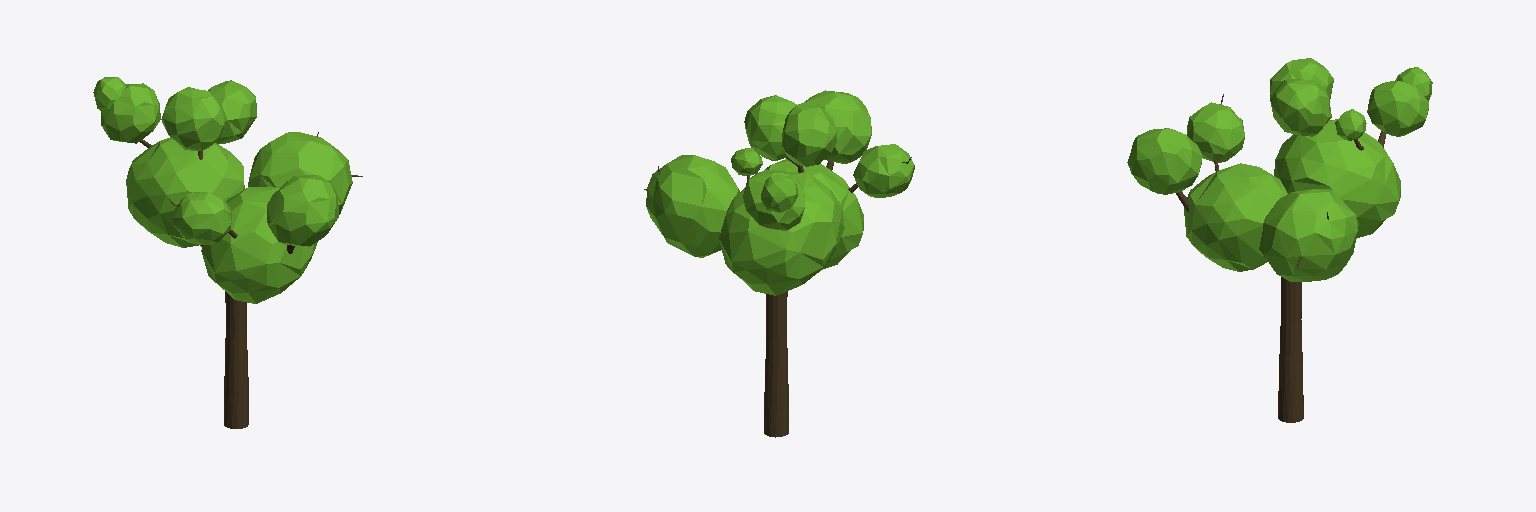
3 views of the same model, side by side, from view 1: azimuth 30°, elevation 25°; view 2: azimuth 150°, elevation 25°; view 3: azimuth 270°, elevation 25° (orthographic).
Parts seen in each view (by area): view 1: Sphere.002_Sphere.005, Cylinder; view 2: Sphere.002_Sphere.005, Cylinder; view 3: Sphere.002_Sphere.005, Cylinder.
Part boxes in pixels (left/top/right/bottom): Sphere.002_Sphere.005: left=93, top=77, right=352, bottom=303; Cylinder: left=140, top=132, right=362, bottom=428; Sphere.002_Sphere.005: left=646, top=90, right=914, bottom=295; Cylinder: left=644, top=157, right=911, bottom=437; Sphere.002_Sphere.005: left=1127, top=58, right=1432, bottom=281; Cylinder: left=1176, top=94, right=1385, bottom=422.
Bounding box in the file's own units: 4.54 × 6.36 × 5.21.
Materials: 2 (2 with a texture image).